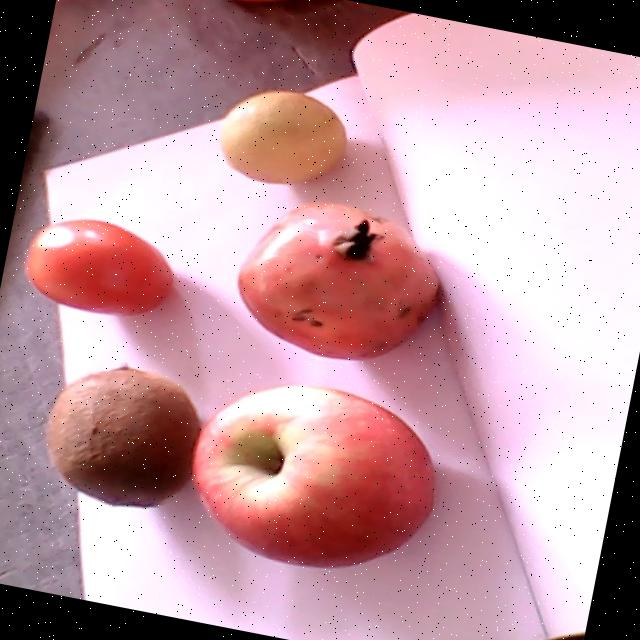apple: (192, 382, 434, 569)
kiwi: (43, 366, 198, 506)
lemon: (219, 88, 345, 184)
pomegranate: (237, 201, 442, 359)
tomato: (25, 219, 173, 315)
